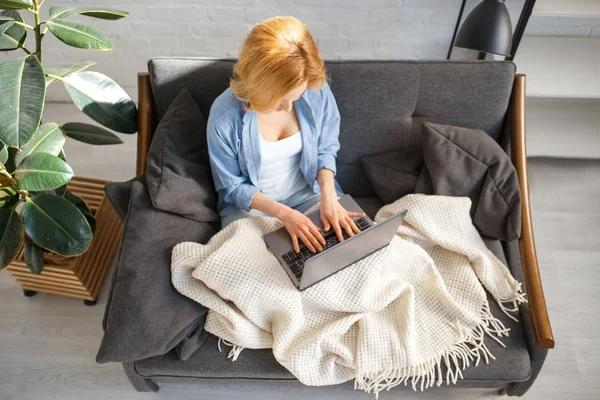blanket: (168, 193, 527, 396)
long sleeve shirt: (205, 73, 344, 216)
vest: (251, 129, 310, 203)
